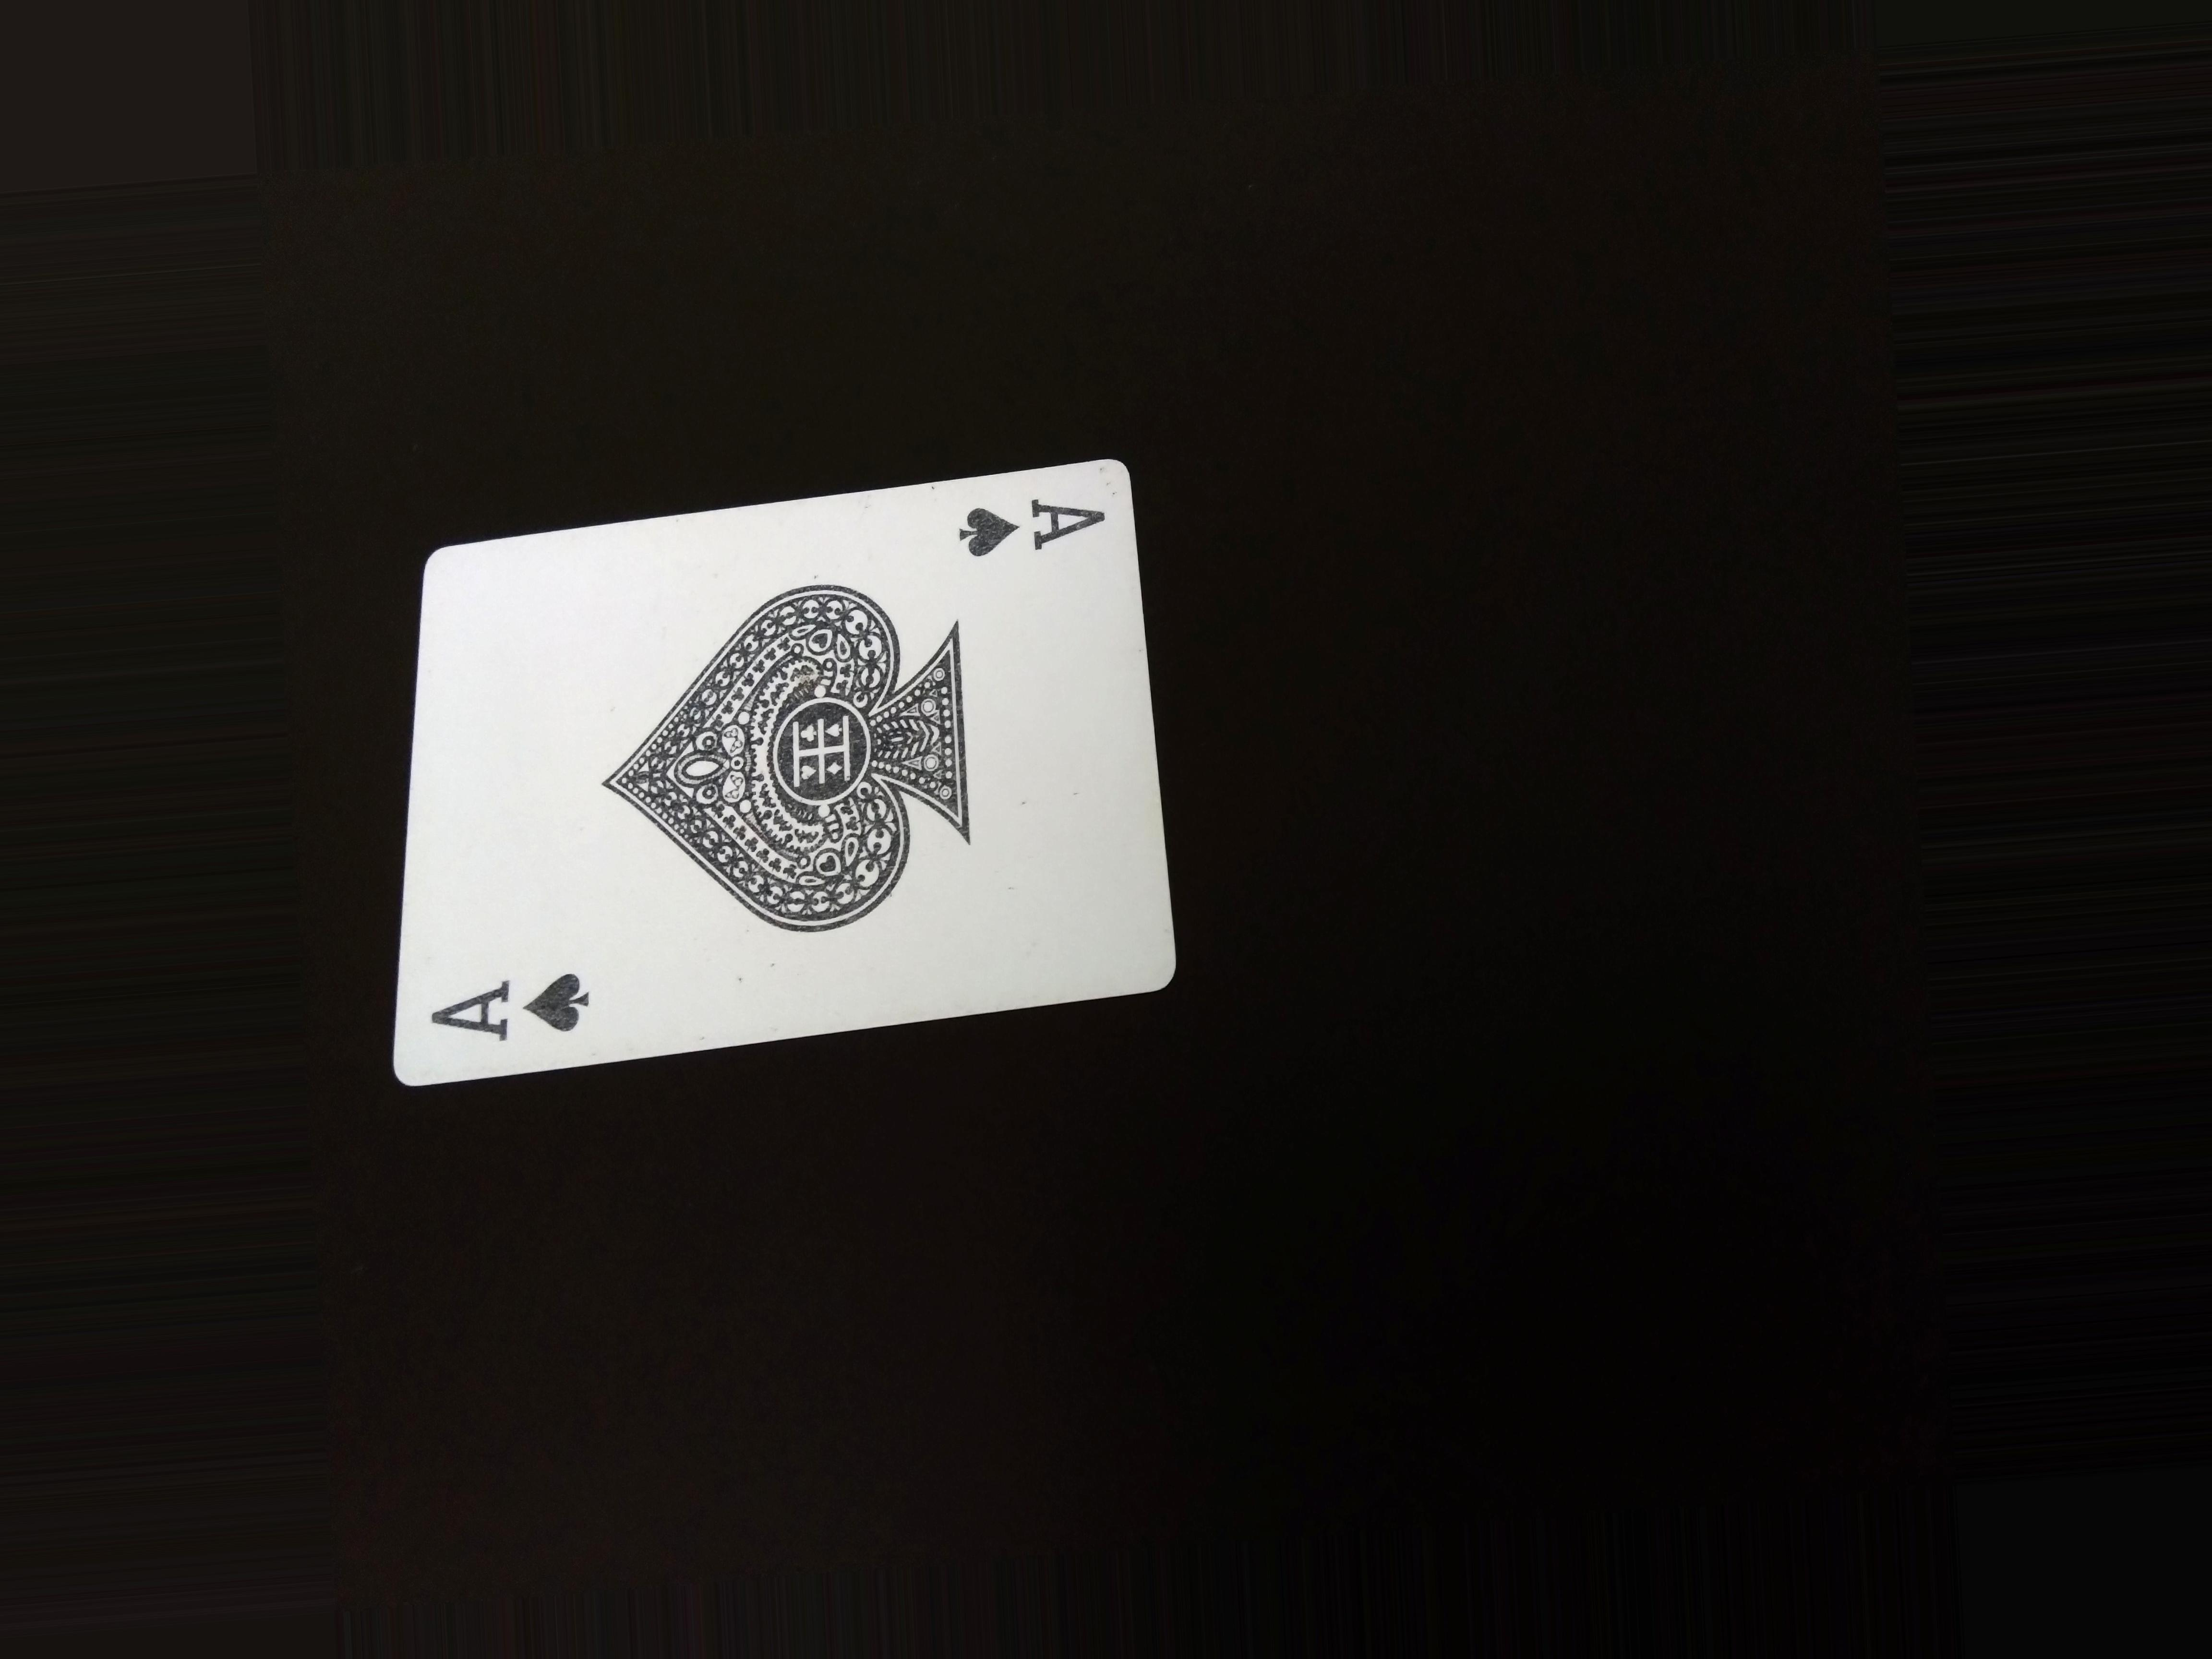AS: (944, 491, 1118, 568)
